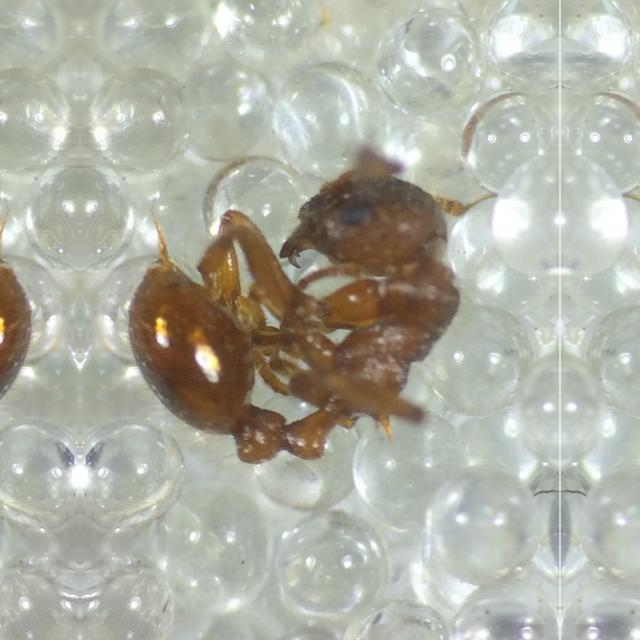Myrmica: (82, 97, 500, 525)
